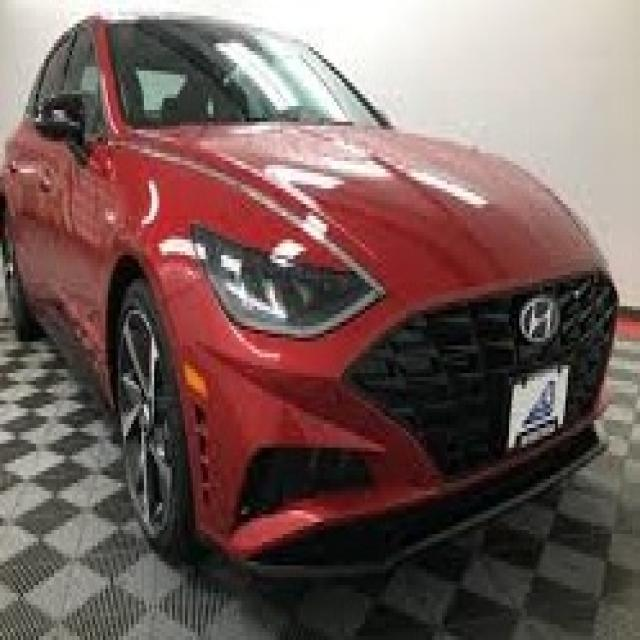maroon: (2, 8, 626, 547)
